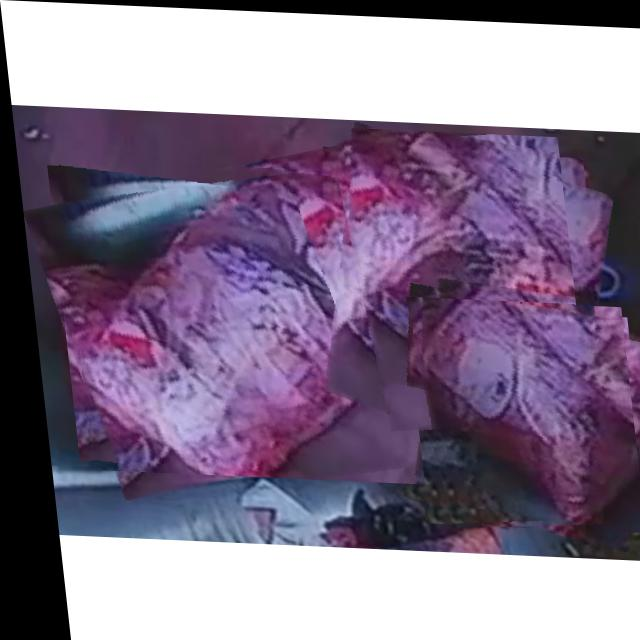other_trashbag: (73, 167, 398, 475), (351, 126, 579, 417), (413, 296, 628, 522)
